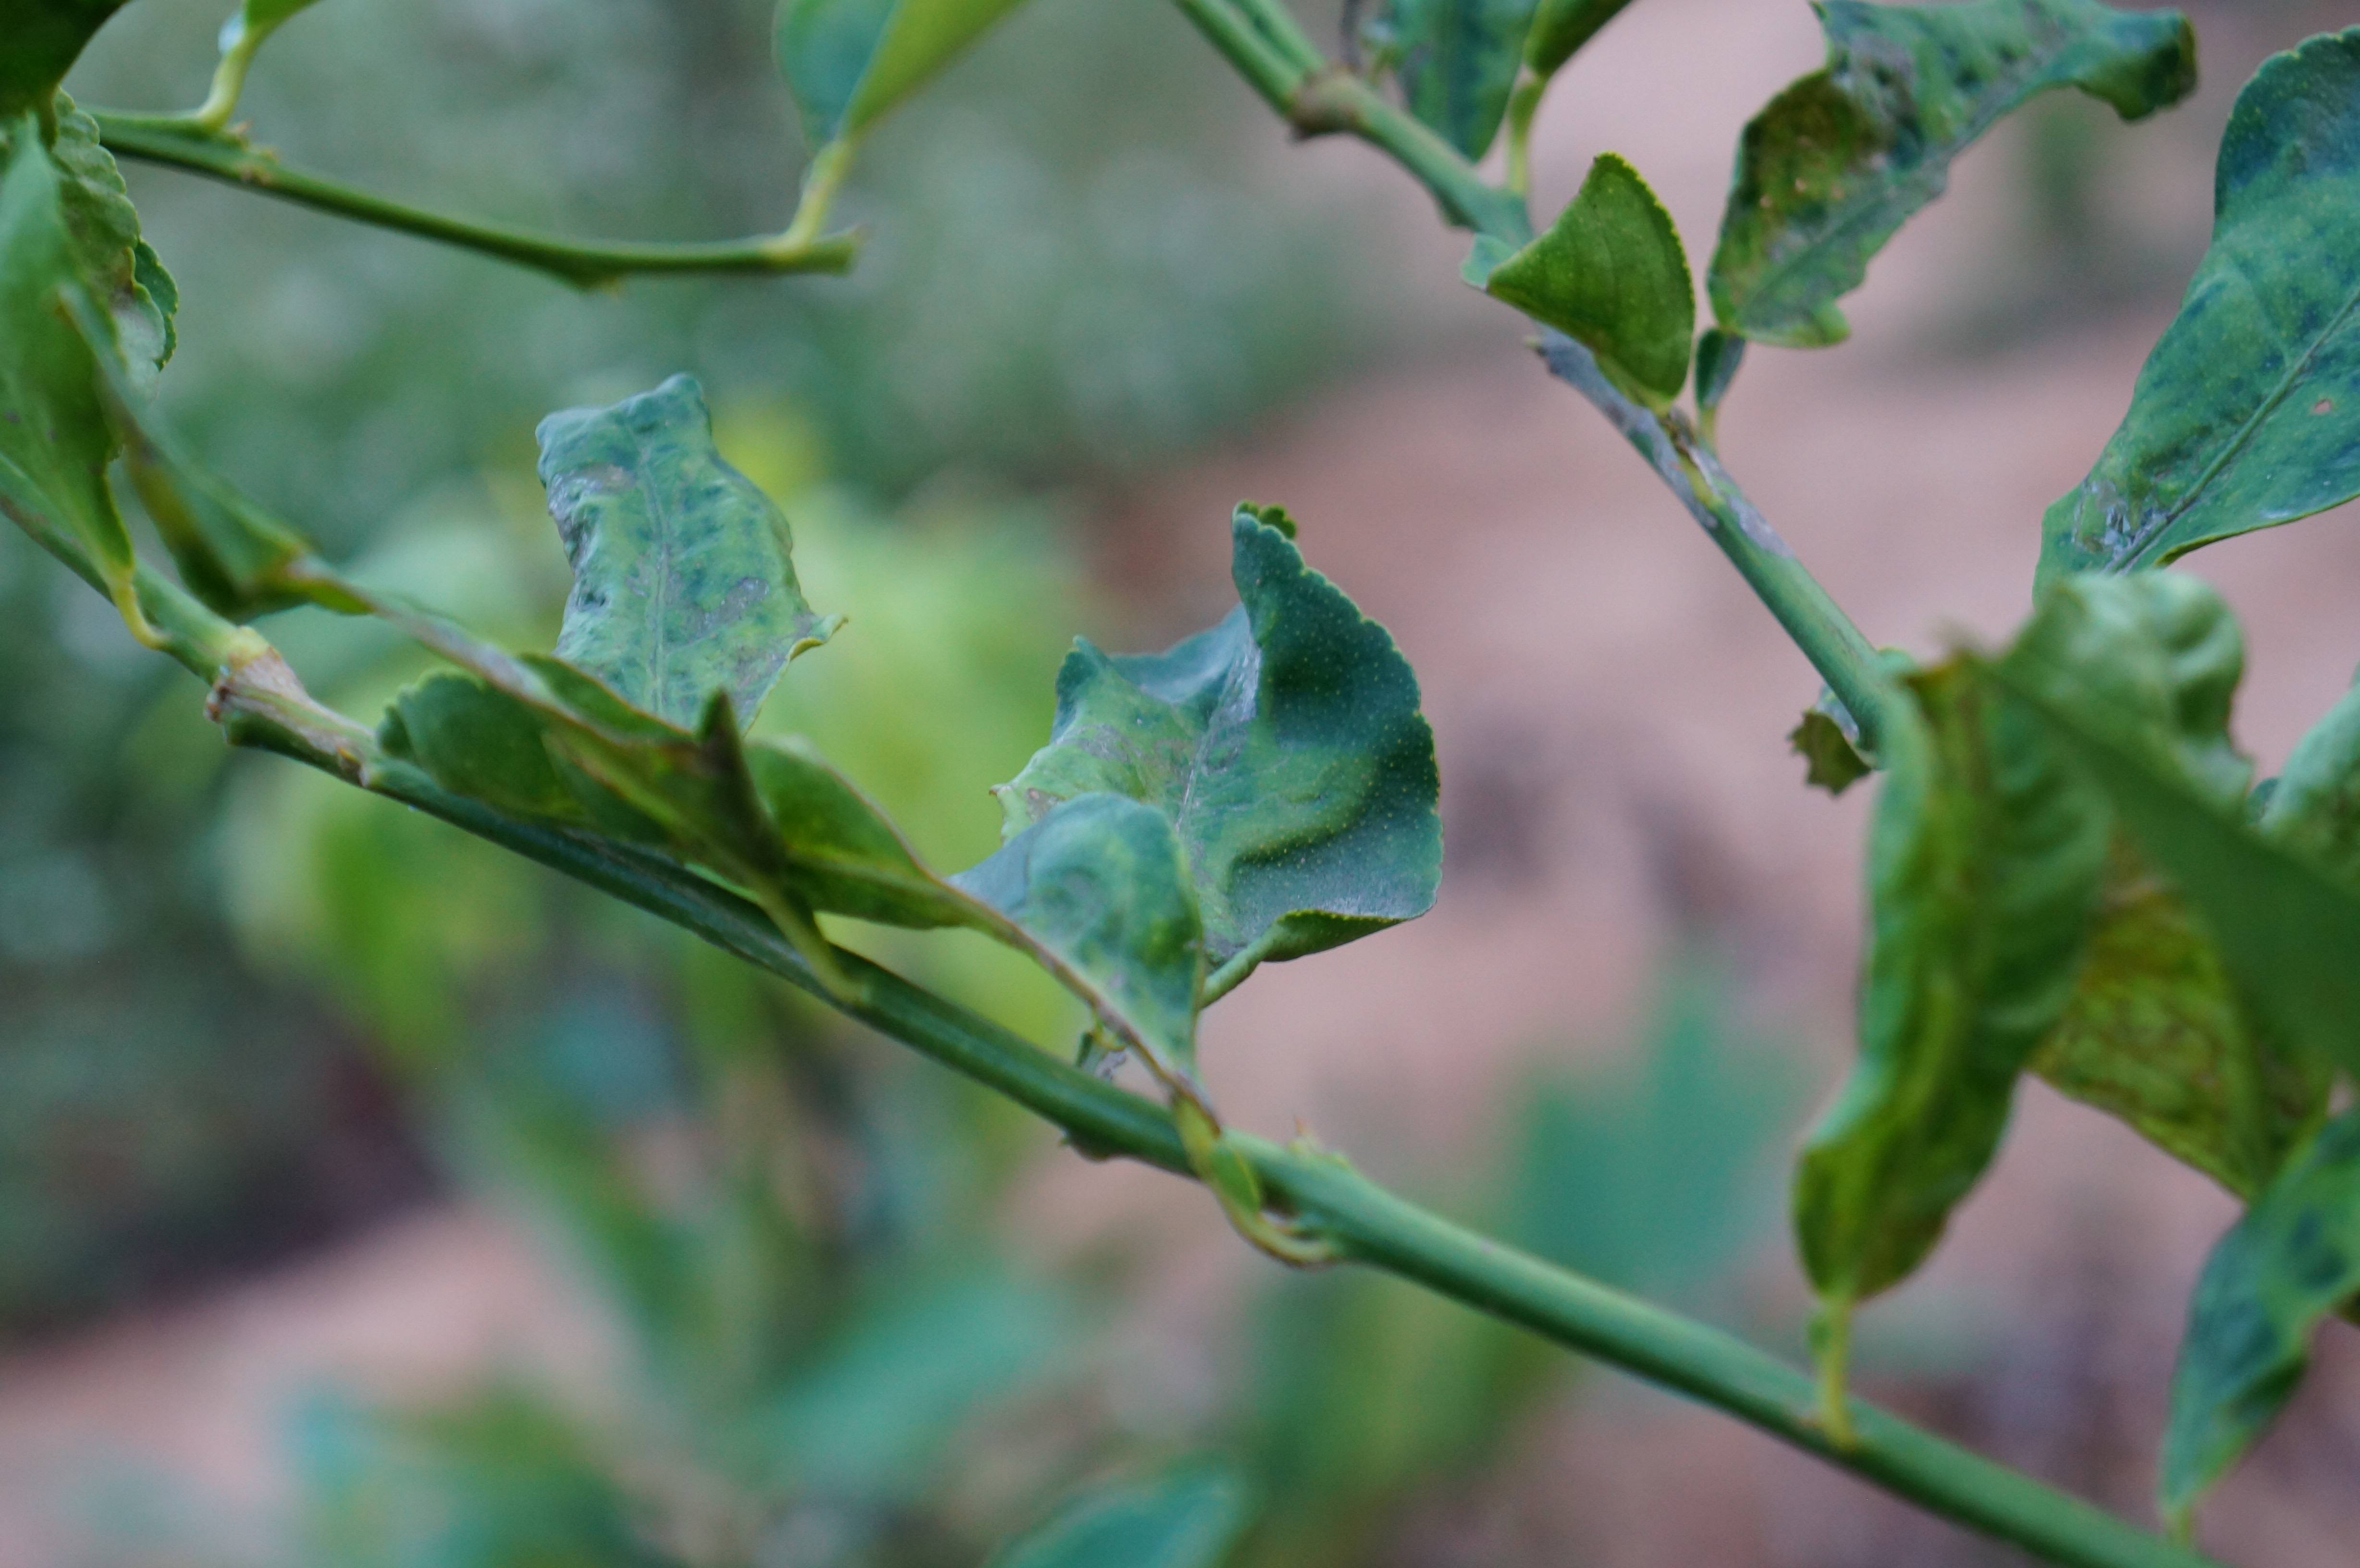damage: (2003, 14, 2360, 654), (514, 364, 861, 842)
